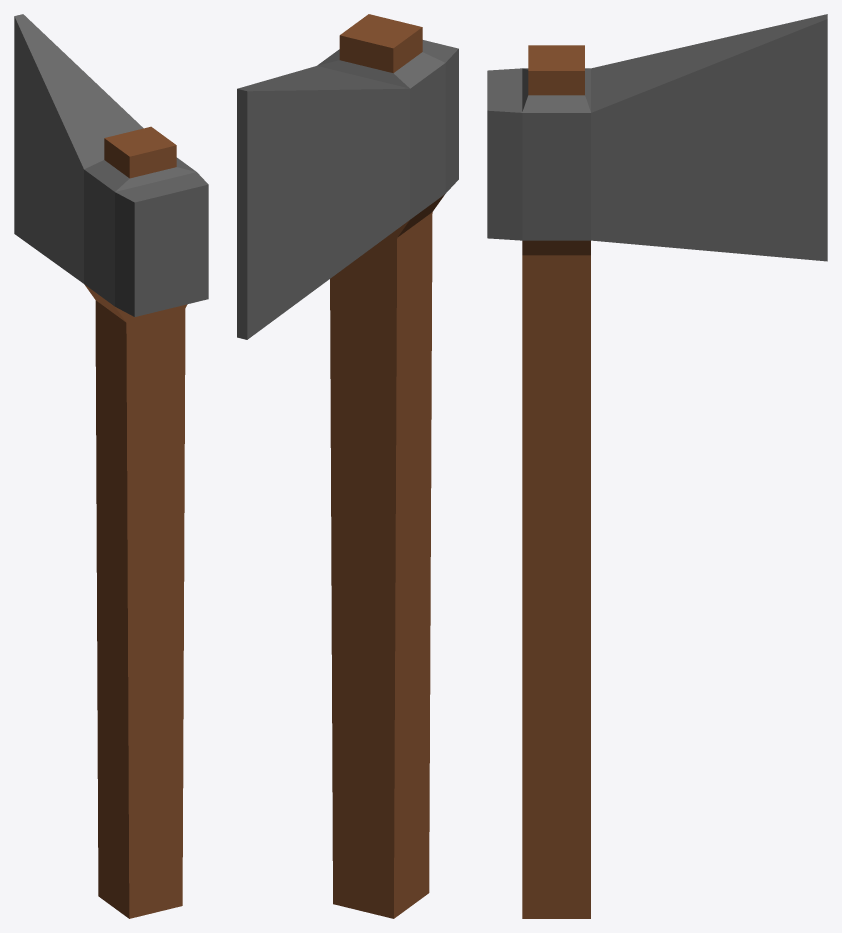
Rendered from Axt.fbx.
3 views of the same model, side by side, from view 1: azimuth 30°, elevation 25°; view 2: azimuth 150°, elevation 25°; view 3: azimuth 270°, elevation 25° (orthographic). The views are drawn at different scales.
Parts seen in each view (by area): view 1: Cube.001; view 2: Cube.001; view 3: Cube.001.
Part boxes in pixels (x1,y1,x2,y2): Cube.001: (14,14,208,918); Cube.001: (237,14,458,918); Cube.001: (487,14,827,918).
Bounding box in the file's own units: 57.71 × 536 × 186.
